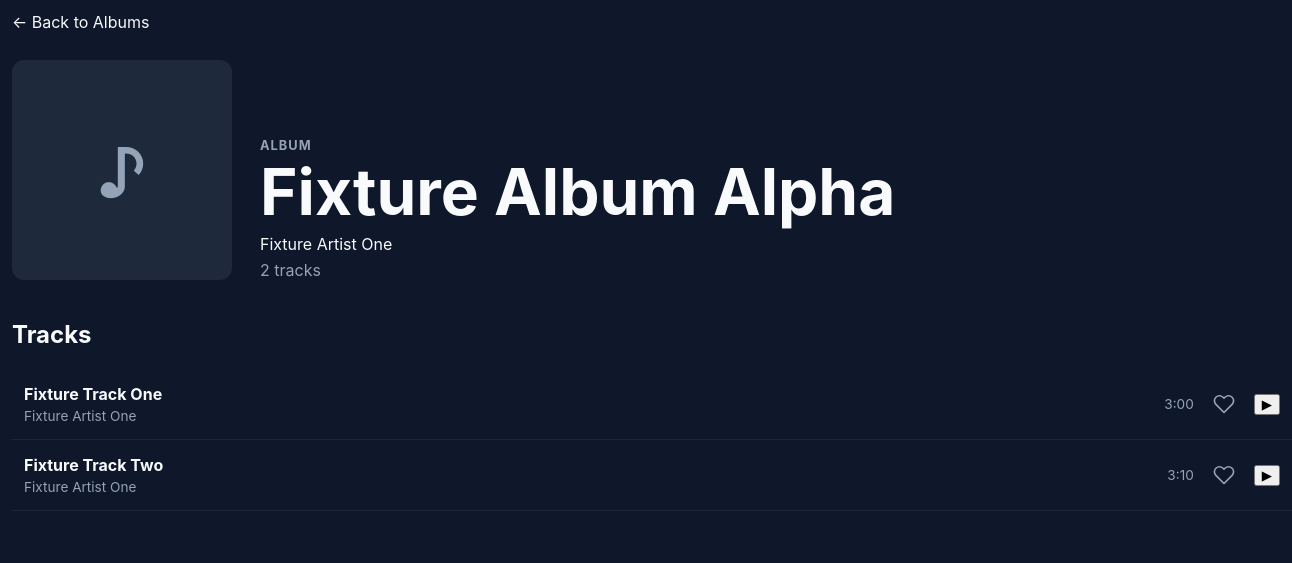
it: Sprint 5 Album Detail Favorites › preserves unsaved state and displays an error after failed PUT
The width and height of the screenshot is (1292, 563).
Step 1. Click the button named "Add Fixture Track One to Favorites" → (1224, 404), box 1204,383 -> 1244,425
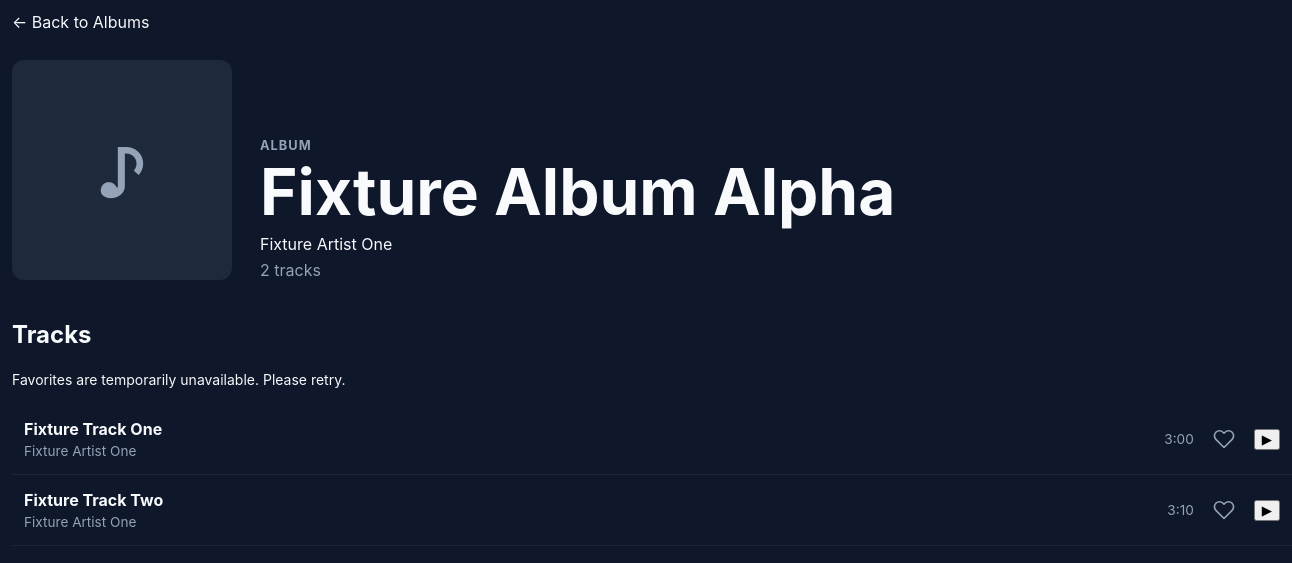
Now the message shows "Favorites are temporarily unavailable.", box 12,371 -> 346,388
